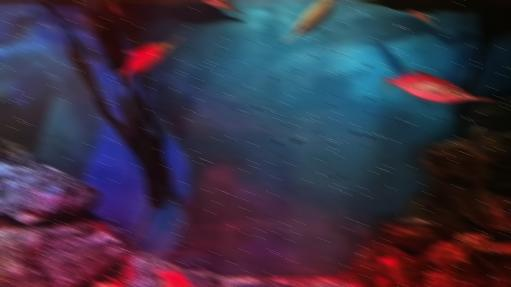Fish: (382, 68, 493, 102), (117, 37, 180, 82), (284, 0, 335, 42), (379, 255, 406, 286), (156, 270, 191, 286), (202, 0, 243, 13), (407, 9, 436, 27), (90, 276, 124, 286), (107, 2, 120, 15), (376, 276, 391, 286), (352, 282, 361, 286)
